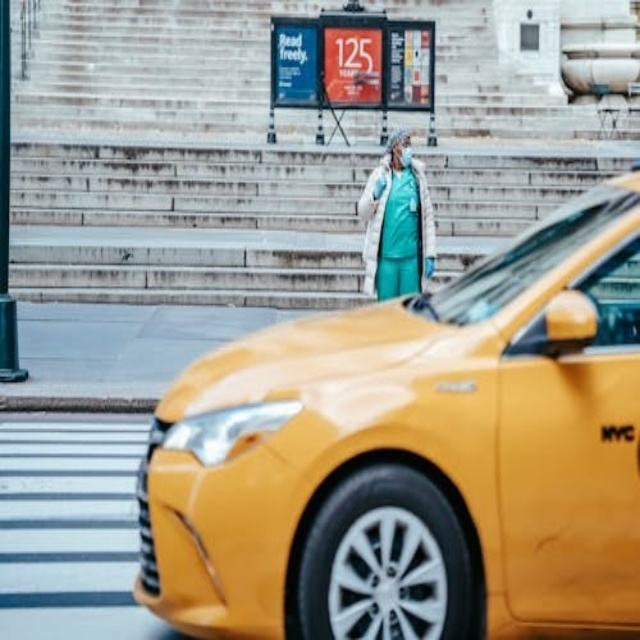Guantes: (374, 176, 386, 200), (425, 257, 435, 280)
Mascara: (398, 147, 413, 168)
